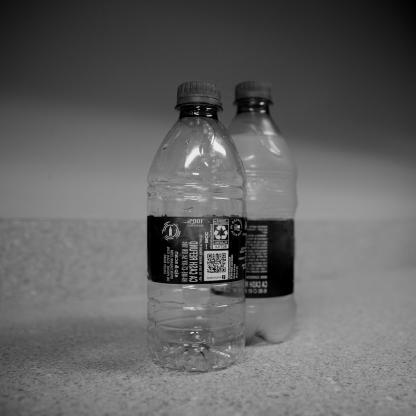bottle: (131, 78, 248, 378), (208, 75, 306, 350)
